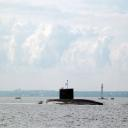submarine: (33, 73, 106, 112)
